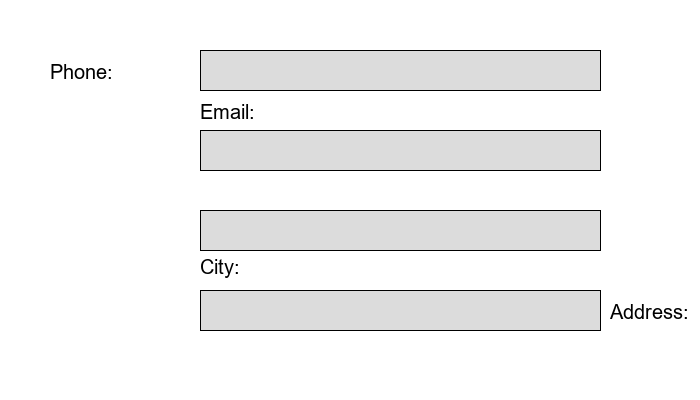Label: (610, 300, 684, 315), (50, 60, 107, 75), (200, 100, 249, 115), (200, 255, 234, 274)
Textbox: (200, 50, 600, 90), (200, 130, 600, 170), (200, 210, 600, 250), (200, 290, 600, 330)
